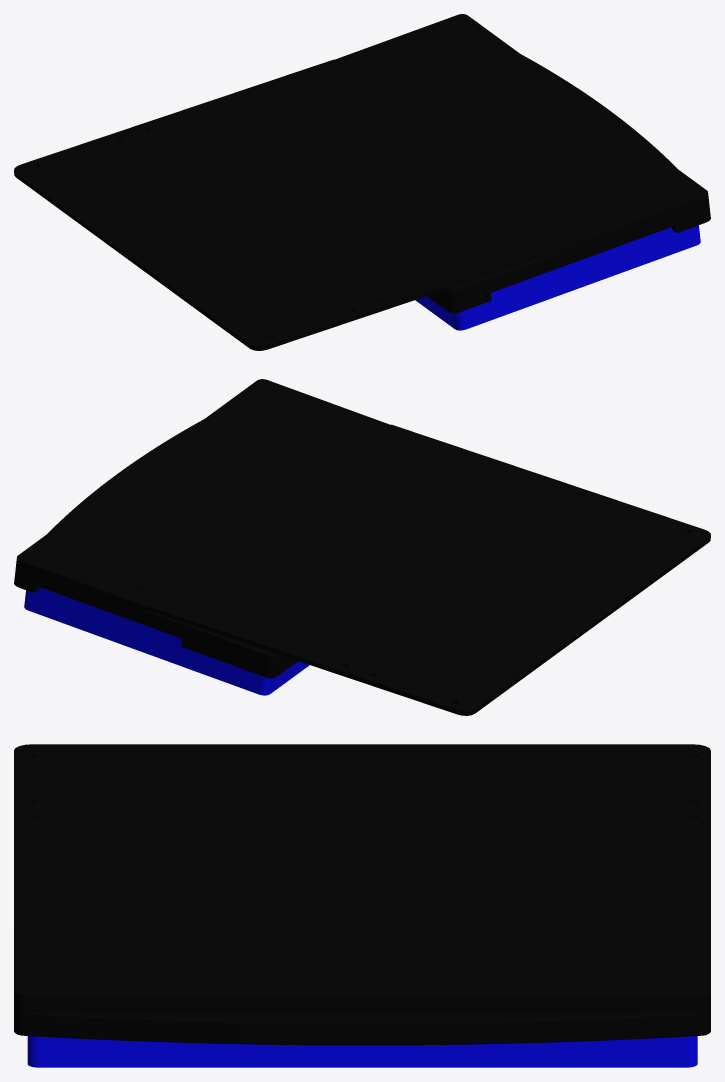
Rendered from touchscreenPulledOut.glb.
3 views of the same model, one above another, from view 1: azimuth 30°, elevation 25°; view 2: azimuth 150°, elevation 25°; view 3: azimuth 270°, elevation 25° (orthographic). The views are drawn at different scales.
Size of the model in its own units: 8.7 by 1.44 by 7.8.
